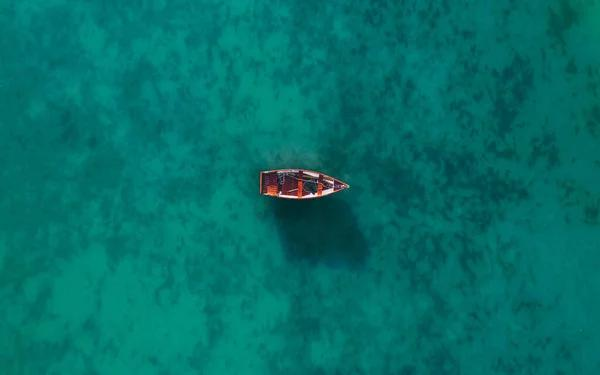Ship: (254, 166, 351, 204)
